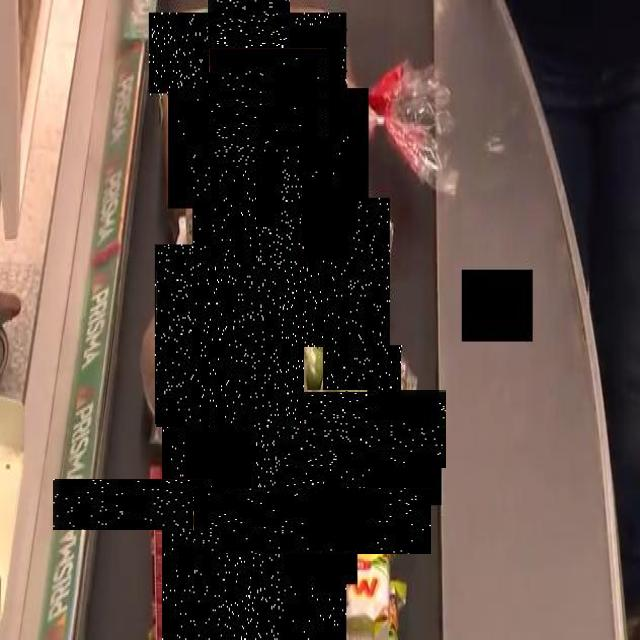beverage: (107, 425, 268, 585), (236, 445, 389, 597), (212, 388, 280, 640)
food-box: (188, 68, 349, 229), (178, 0, 319, 125), (192, 167, 256, 263), (255, 146, 302, 268)
fruit: (302, 368, 425, 490), (298, 200, 390, 350)
vegetable: (155, 245, 304, 427)
